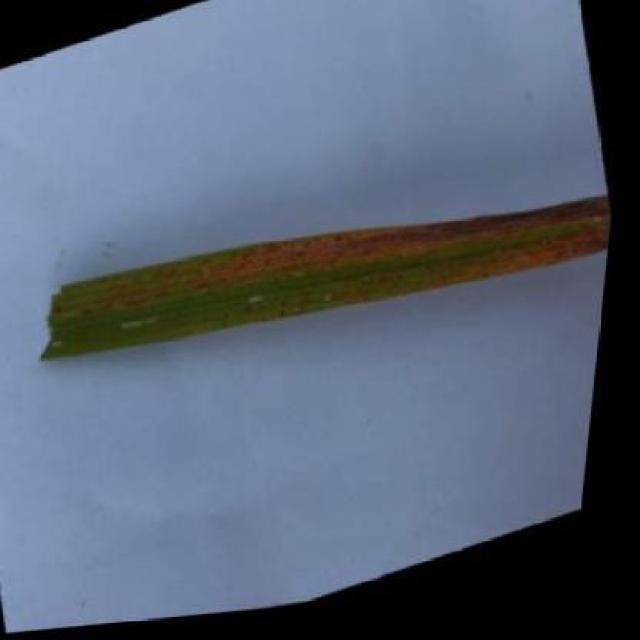Rice False Smut: (19, 115, 626, 443)
